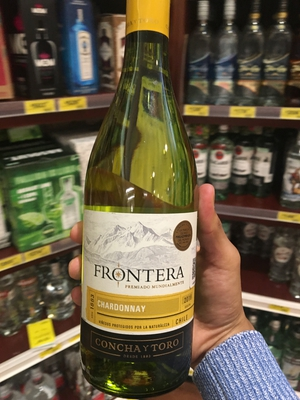frontera chardonnay: (72, 13, 212, 387)
